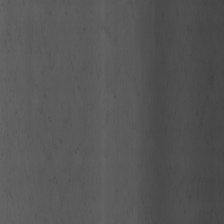silk_spot: (14, 31, 65, 160)
